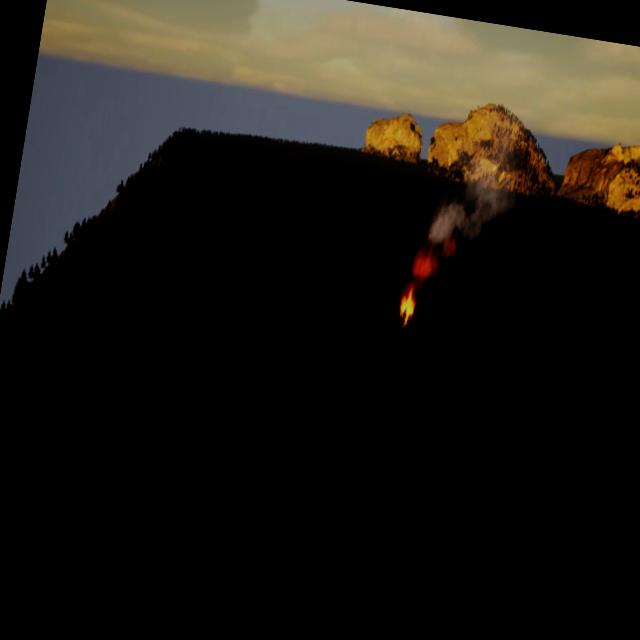fire: (395, 286, 419, 326)
smoke: (406, 100, 530, 312)
